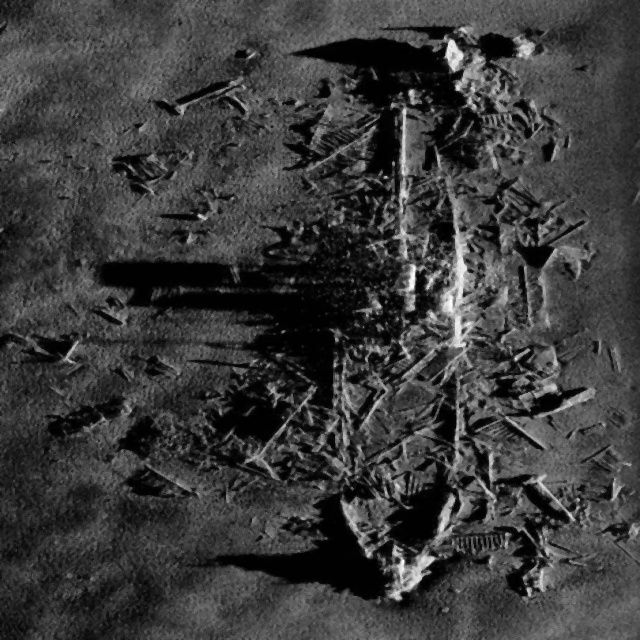Ship: (75, 8, 613, 622)
